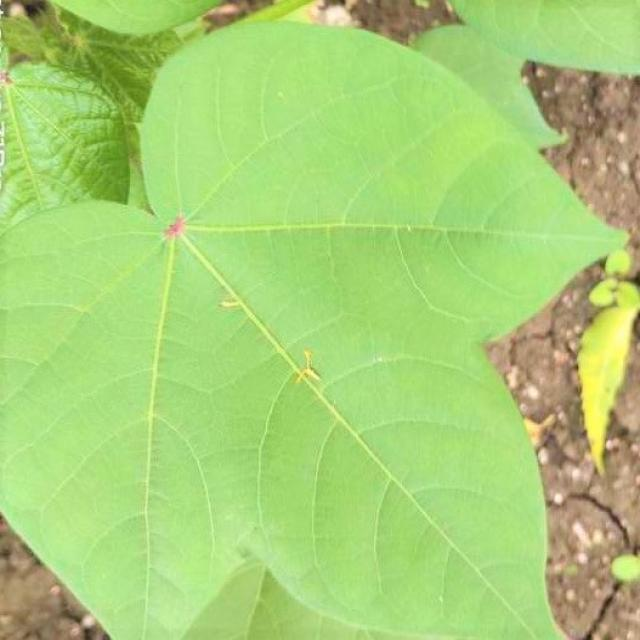Healthy Leaf: (8, 4, 628, 640)
